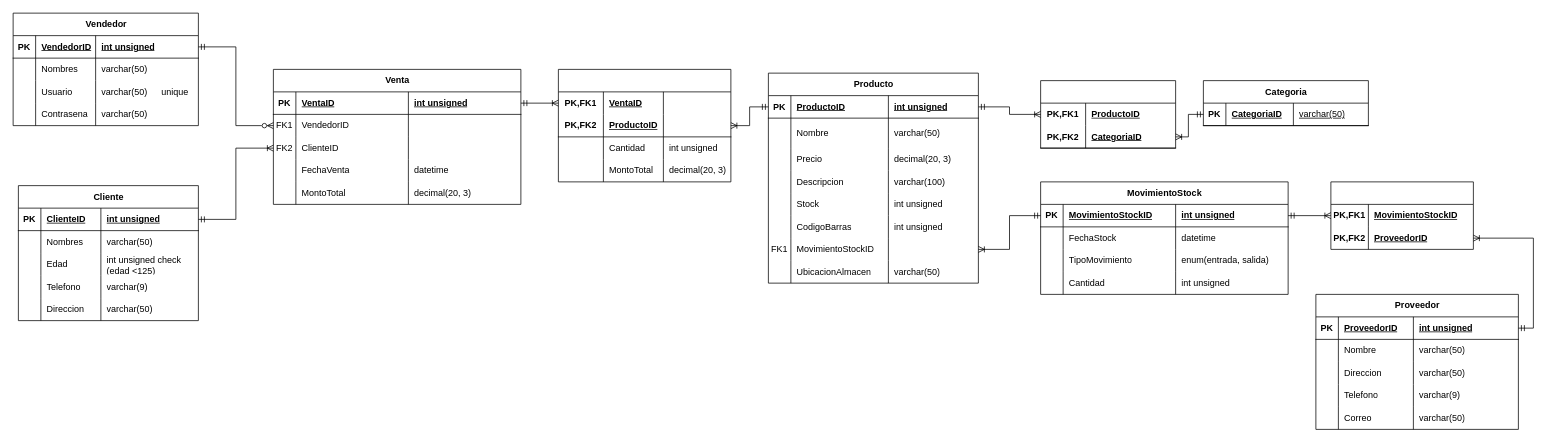
Image size: 1553x443. Some labels were removed from this diagram. The box of each missing label's shape, as (x1, y1, x2, y2) in pixels:
DetalleVenta: (558, 69, 731, 182)
MovimientoStockXProveedor: (1330, 181, 1473, 249)
ProductoXCategoria: (1040, 80, 1176, 148)
